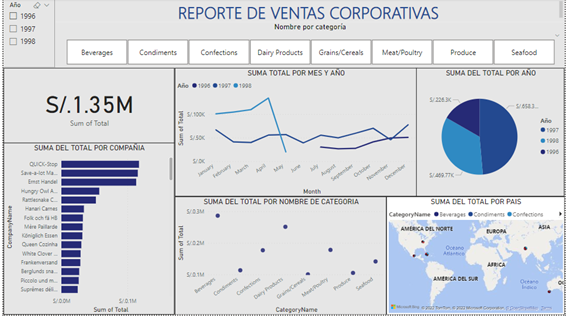

The page's visual inventory and layout, read from the dashboard file:
{"tool":"powerbi","page":{"name":"Page 1","canvas":[1280,720],"ordinal":0},"visuals":[{"type":"textbox","box":[118.3,0,1161.7,53.3],"z":0},{"type":"slicer","title":"Nombre por categoría","fields":{"Values":["Categories.CategoryName"]},"box":[118.3,53.3,1161.7,103.3],"z":1000},{"type":"slicer","fields":{"Values":["Fechas.Año"]},"box":[0,0,118.3,156.7],"z":2000},{"type":"card","fields":{"Values":["Sum(Orders.Total)"]},"box":[0,156.7,390,171.7],"z":3000},{"type":"lineChart","title":"SUMA TOTAL POR MES Y AÑO","fields":{"Category":["Fechas.Date.Variation.Date Hierarchy.Month"],"Y":["Sum(Orders.Total)"],"Series":["Fechas.Año"]},"box":[390,156.7,551.7,293.3],"z":4000},{"type":"pieChart","title":"SUMA DEL TOTAL POR AÑO","fields":{"Category":["Fechas.Año"],"Y":["Sum(Orders.Total)"]},"box":[941.7,156.7,338.3,293.3],"z":5000},{"type":"clusteredBarChart","title":"SUMA DEL TOTAL POR COMPAÑIA","fields":{"Category":["Customers.CompanyName"],"Y":["Sum(Orders.Total)"]},"box":[0,328.3,390,391.7],"z":6000},{"type":"scatterChart","title":"SUMA DEL TOTAL POR NOMBRE DE CATEGORIA","fields":{"Y":["Sum(Orders.Total)"],"X":["Categories.CategoryName"]},"box":[390,450,483.3,270],"z":7000},{"type":"map","title":"SUMA DEL TOTAL POR PAIS","fields":{"Category":["Customers.Country"],"Size":["Sum(Orders.Total)"],"Series":["Categories.CategoryName"]},"box":[873.3,450,406.7,270],"z":8000}]}

Visuals, with their boxes in screenshot pixels (x1, y1, x2, y2):
textbox: bbox=(54, 0, 560, 23)
"Nombre por categoría" slicer: bbox=(54, 23, 560, 68)
slicer - Fechas.Año: bbox=(3, 0, 54, 68)
card - Sum(Orders.Total): bbox=(3, 68, 173, 143)
"SUMA TOTAL POR MES Y AÑO" lineChart: bbox=(173, 68, 412, 196)
"SUMA DEL TOTAL POR AÑO" pieChart: bbox=(412, 68, 560, 196)
"SUMA DEL TOTAL POR COMPAÑIA" clusteredBarChart: bbox=(3, 143, 173, 313)
"SUMA DEL TOTAL POR NOMBRE DE CATEGORIA" scatterChart: bbox=(173, 196, 383, 313)
"SUMA DEL TOTAL POR PAIS" map: bbox=(383, 196, 560, 313)
